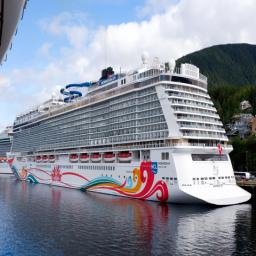cruises: (10, 51, 249, 211), (1, 124, 18, 176)
